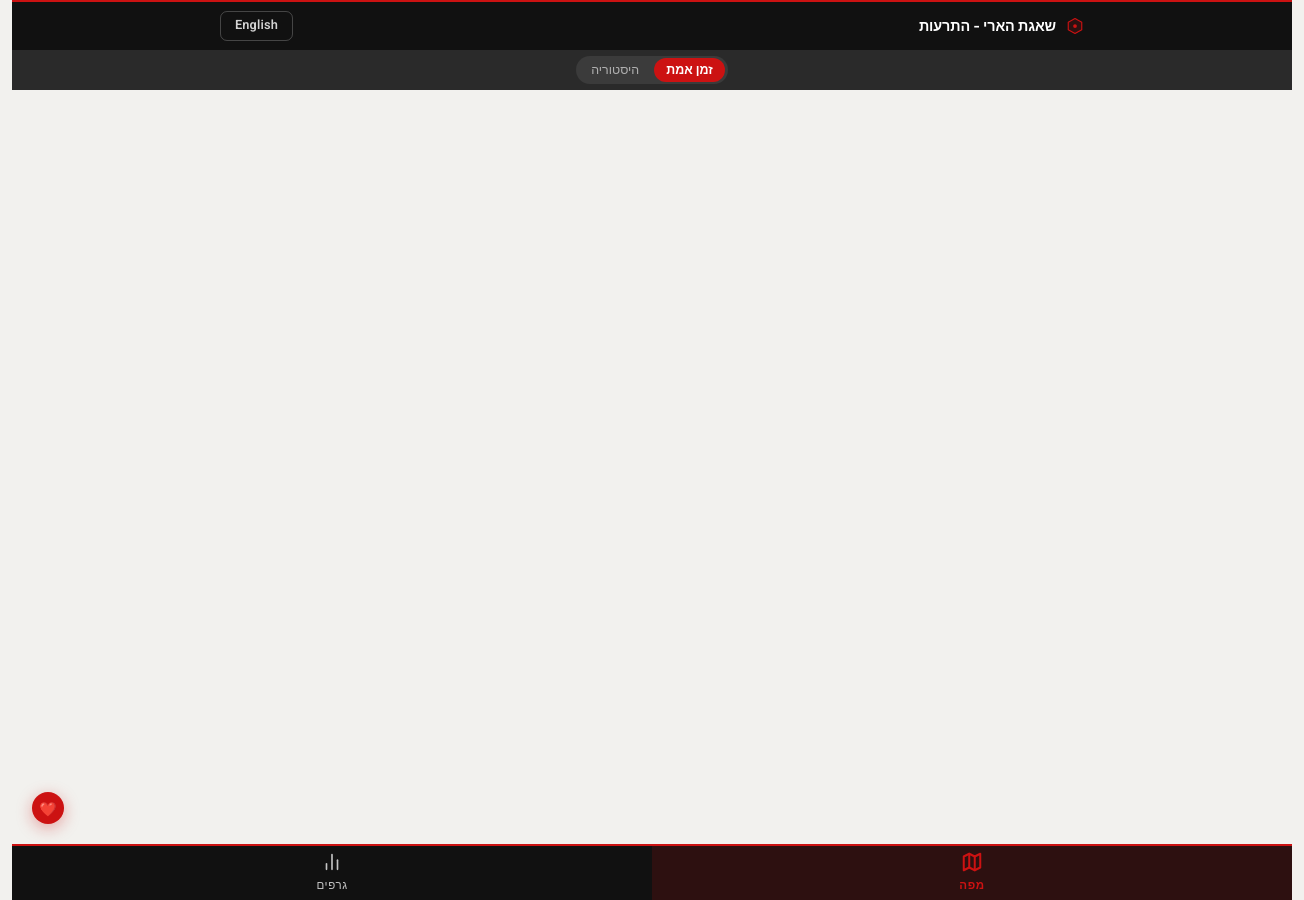
Scenario: Page user-flow tests › summary count shows total filtered alerts
Click the button "גרפים" at (332, 873), box x1=12 y1=846 x2=652 y2=899
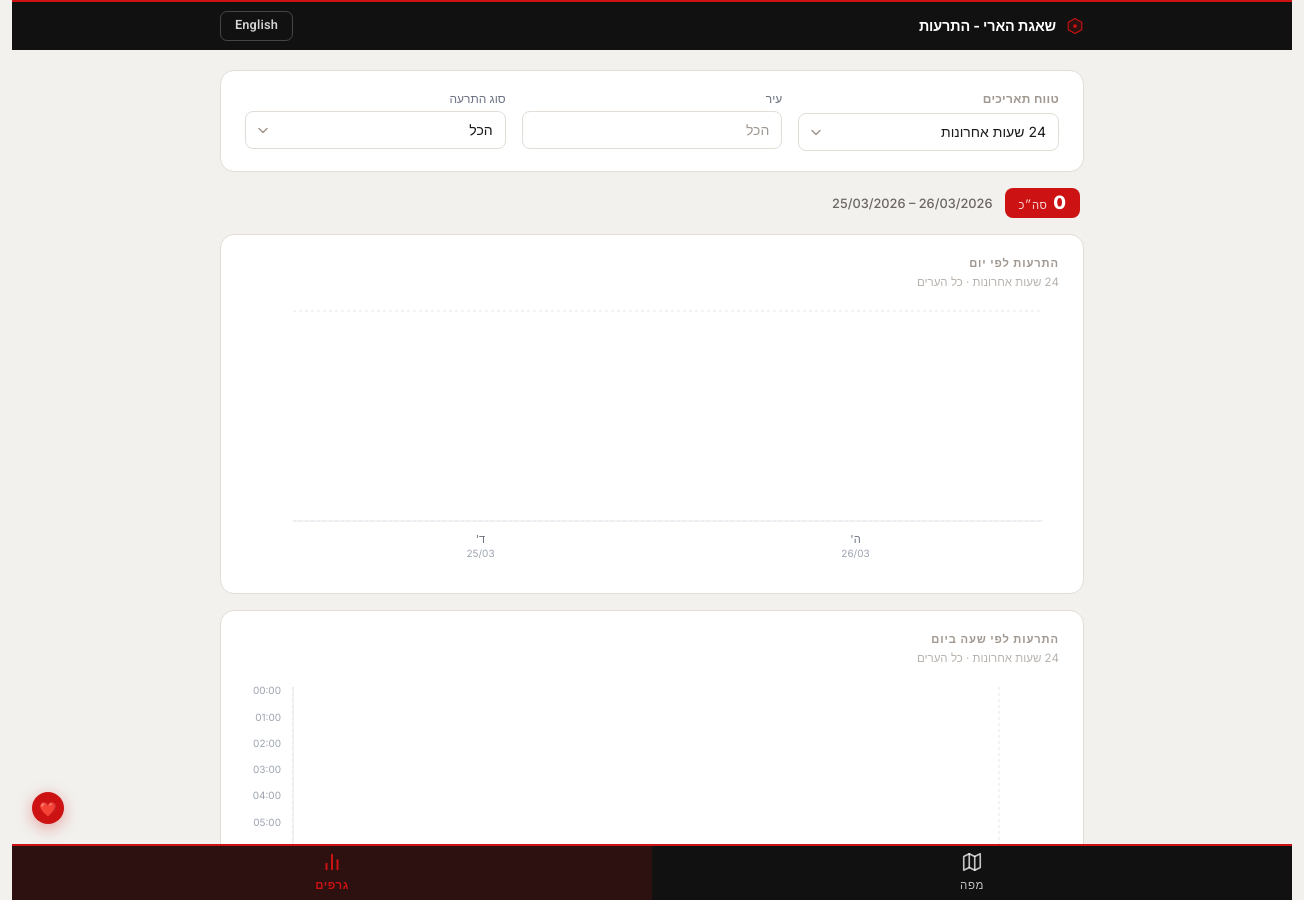
Expected: the text "סה״כ" is shown, x1=1018 y1=197 x2=1047 y2=214
Expected: the text with test id "alert-count" reads "0", x1=1053 y1=191 x2=1066 y2=213
